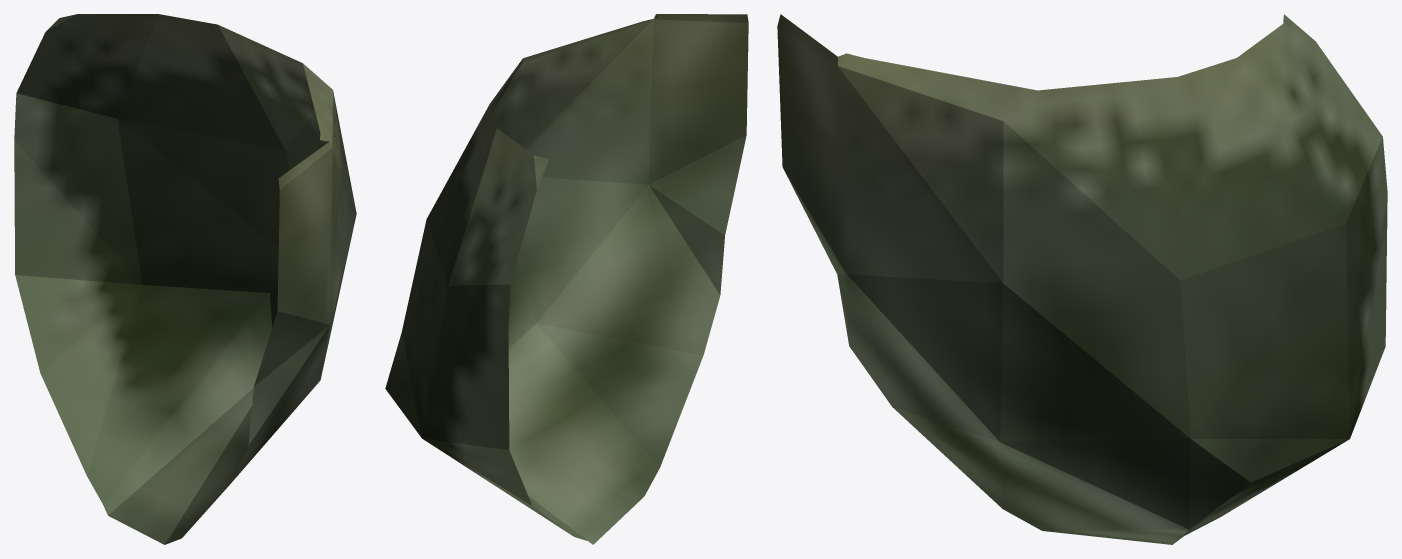
3 renders of one model, left to right at view 1: azimuth 30°, elevation 25°; view 2: azimuth 150°, elevation 25°; view 3: azimuth 270°, elevation 25°, orthographic. The views are drawn at different scales.
Bounding box in the file's own units: 0.2543 × 0.5512 × 0.5741.
Materials: 1 (1 with a texture image).
